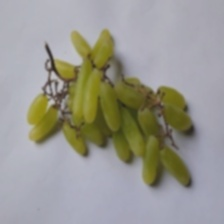grapes: (20, 40, 215, 199)
